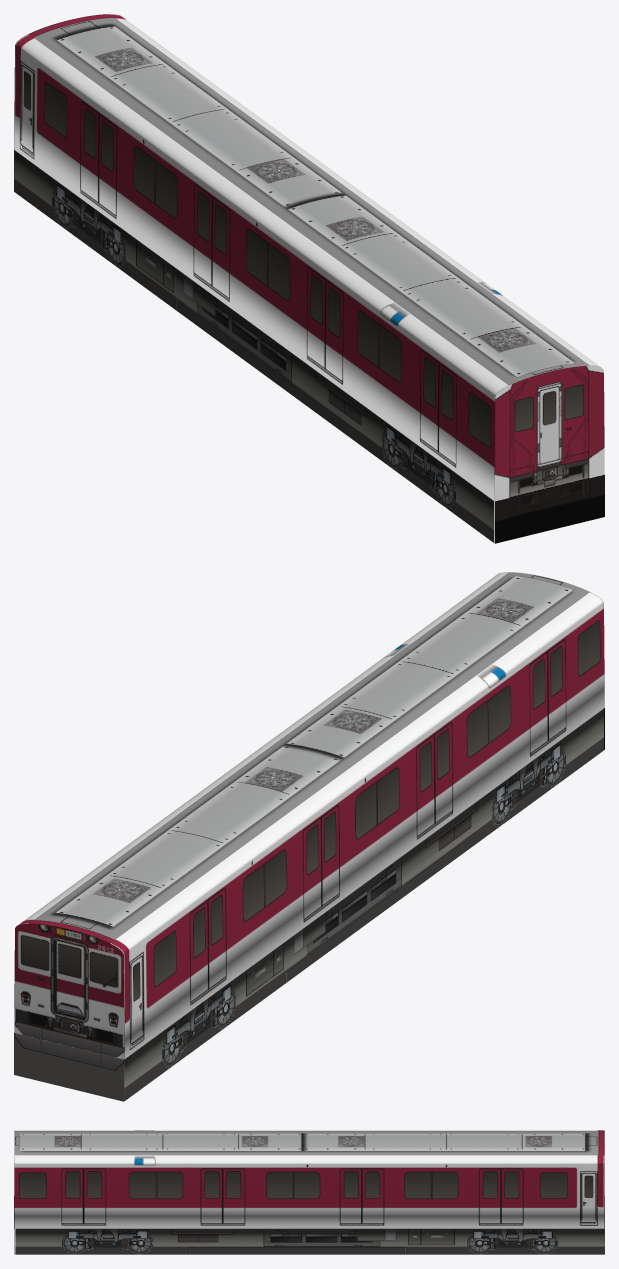
The model's file is car4.glb.
3 views of the same model, one above another, from view 1: azimuth 30°, elevation 25°; view 2: azimuth 150°, elevation 25°; view 3: azimuth 270°, elevation 25° (orthographic). The views are drawn at different scales.
Parts seen in each view (by area): view 1: kintetsu-2610-car4; view 2: kintetsu-2610-car4; view 3: kintetsu-2610-car4.
Part boxes in pixels (left/top/right/bottom): kintetsu-2610-car4: left=14, top=14, right=604, bottom=543; kintetsu-2610-car4: left=14, top=572, right=604, bottom=1101; kintetsu-2610-car4: left=14, top=1130, right=604, bottom=1254.
Bounding box in the file's own units: 2.74 × 3.77 × 20.75.
8 materials, 7 textured.
